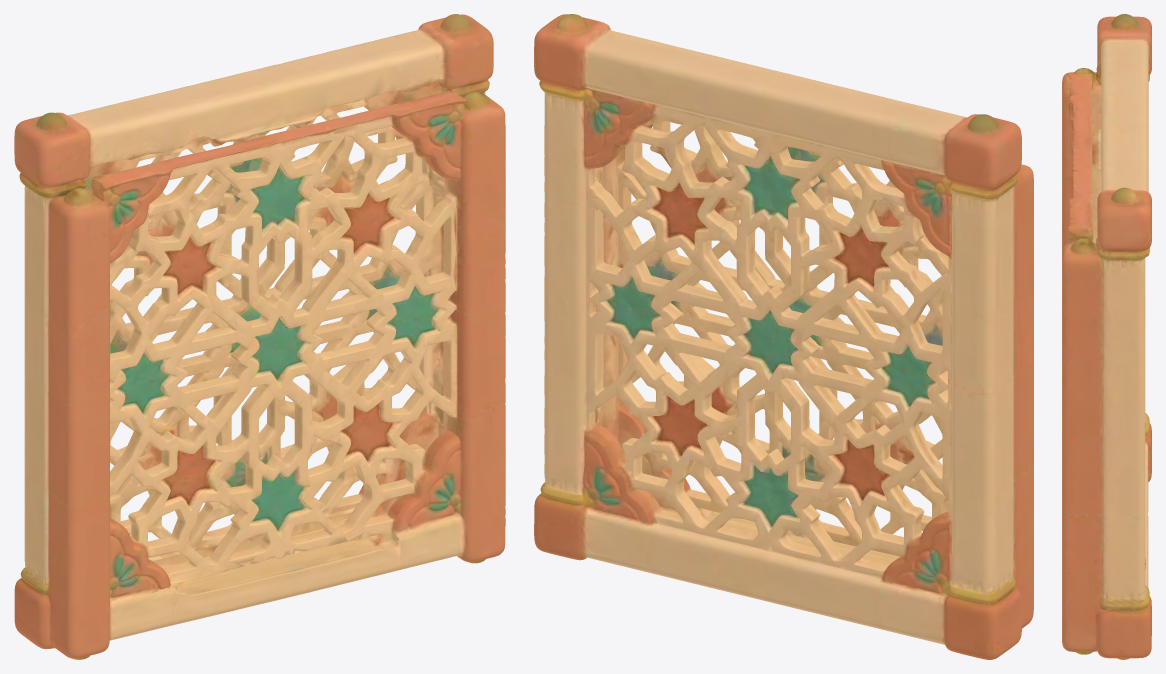
Rendered from Meshy_AI_model.glb.
3 views of the same model, side by side, from view 1: azimuth 30°, elevation 25°; view 2: azimuth 150°, elevation 25°; view 3: azimuth 270°, elevation 25° (orthographic). The views are drawn at different scales.
Visible parts, largest first — view 1: mesh_node; view 2: mesh_node; view 3: mesh_node.
Part boxes in pixels (x1,y1,x2,y2): mesh_node: [14, 14, 505, 659]; mesh_node: [534, 14, 1033, 659]; mesh_node: [1062, 14, 1151, 659].
Size of the model in its own units: 1.7 by 1.9 by 0.3299.
Materials: 1 (1 with a texture image).
